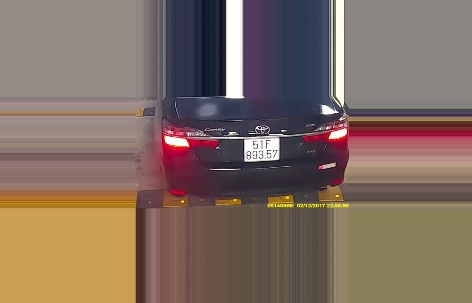plate: (244, 134, 280, 162)
